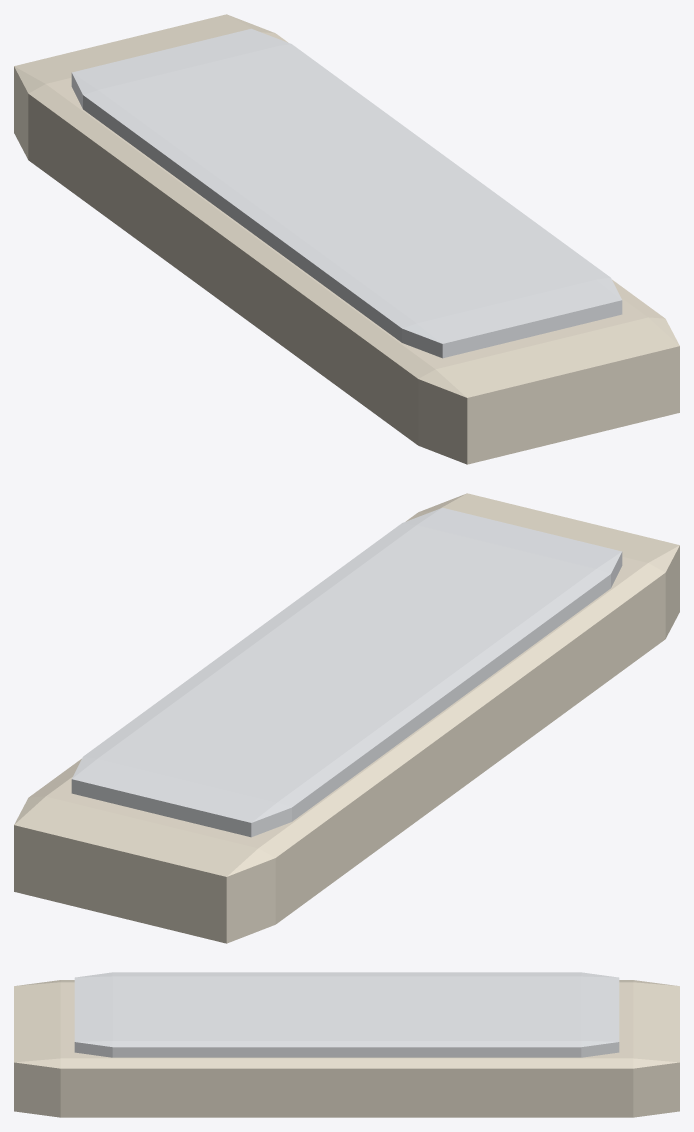
Rendered from b17_street_skateboard.glb.
3 views of the same model, one above another, from view 1: azimuth 30°, elevation 25°; view 2: azimuth 150°, elevation 25°; view 3: azimuth 270°, elevation 25° (orthographic). The views are drawn at different scales.
Visible parts, largest first — view 1: b17_street_skateboard; view 2: b17_street_skateboard; view 3: b17_street_skateboard.
Boxes of the visible parts, x1,y1,x2,y2 form: b17_street_skateboard: (14,14,679,464); b17_street_skateboard: (14,493,679,943); b17_street_skateboard: (14,972,679,1117).
Size of the model in its own units: 0.252 by 0.091 by 0.8.
